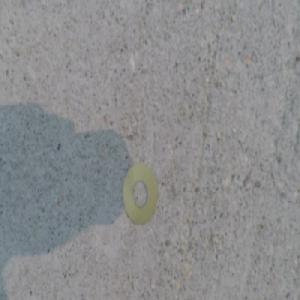Washer: (118, 159, 155, 226)
